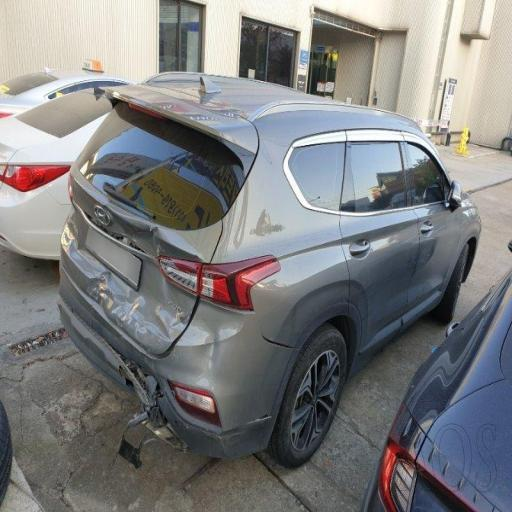broken: (63, 200, 270, 473)
